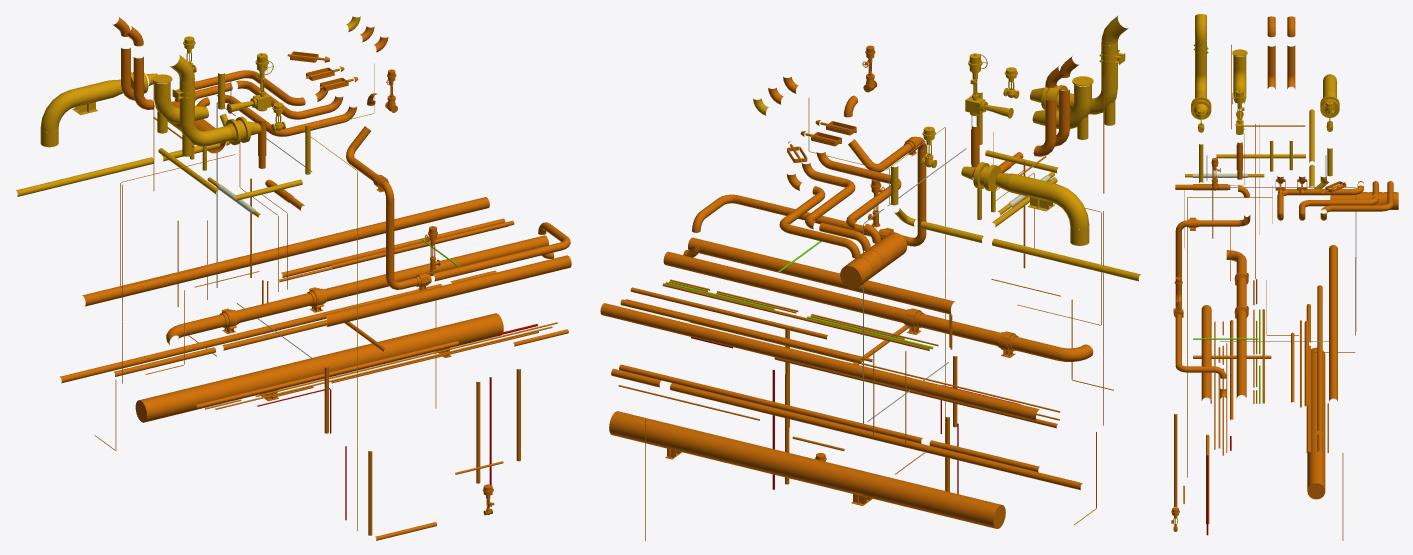
The picture shows the model from 3 angles, left to right: view 1: azimuth 30°, elevation 25°; view 2: azimuth 150°, elevation 25°; view 3: azimuth 270°, elevation 25°; orthographic projection. The views are drawn at different scales.
Size of the model in its own units: 22.19 by 22.79 by 11.59.
